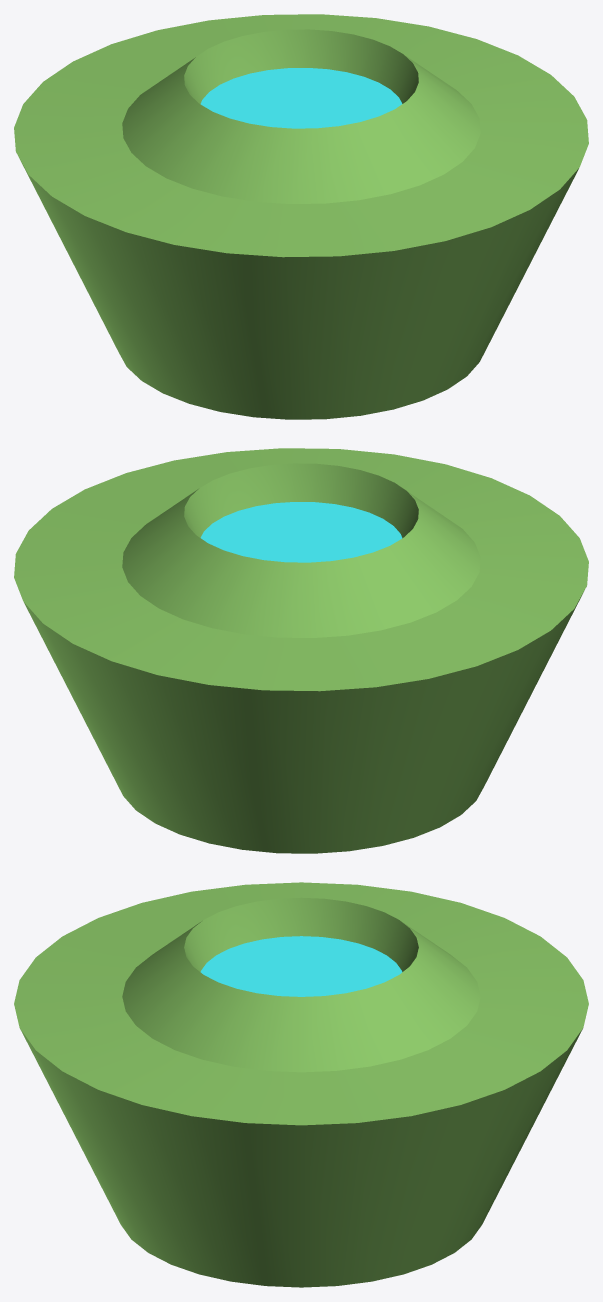
Rendered from Recipient Plant.4.fbx.
The picture shows the model from 3 angles, top to bottom: view 1: azimuth 30°, elevation 25°; view 2: azimuth 150°, elevation 25°; view 3: azimuth 270°, elevation 25°; orthographic projection.
Parts seen in each view (by area): view 1: VPlanta, Círculo; view 2: VPlanta, Círculo; view 3: VPlanta, Círculo.
Boxes of the visible parts, x1=… form: VPlanta: x1=14, y1=14, x2=588, y2=419; Círculo: x1=200, y1=68, x2=402, y2=128; VPlanta: x1=14, y1=448, x2=588, y2=853; Círculo: x1=200, y1=502, x2=402, y2=562; VPlanta: x1=14, y1=882, x2=588, y2=1287; Círculo: x1=200, y1=936, x2=402, y2=996.
Size of the model in its own units: 127 by 64.13 by 127.
